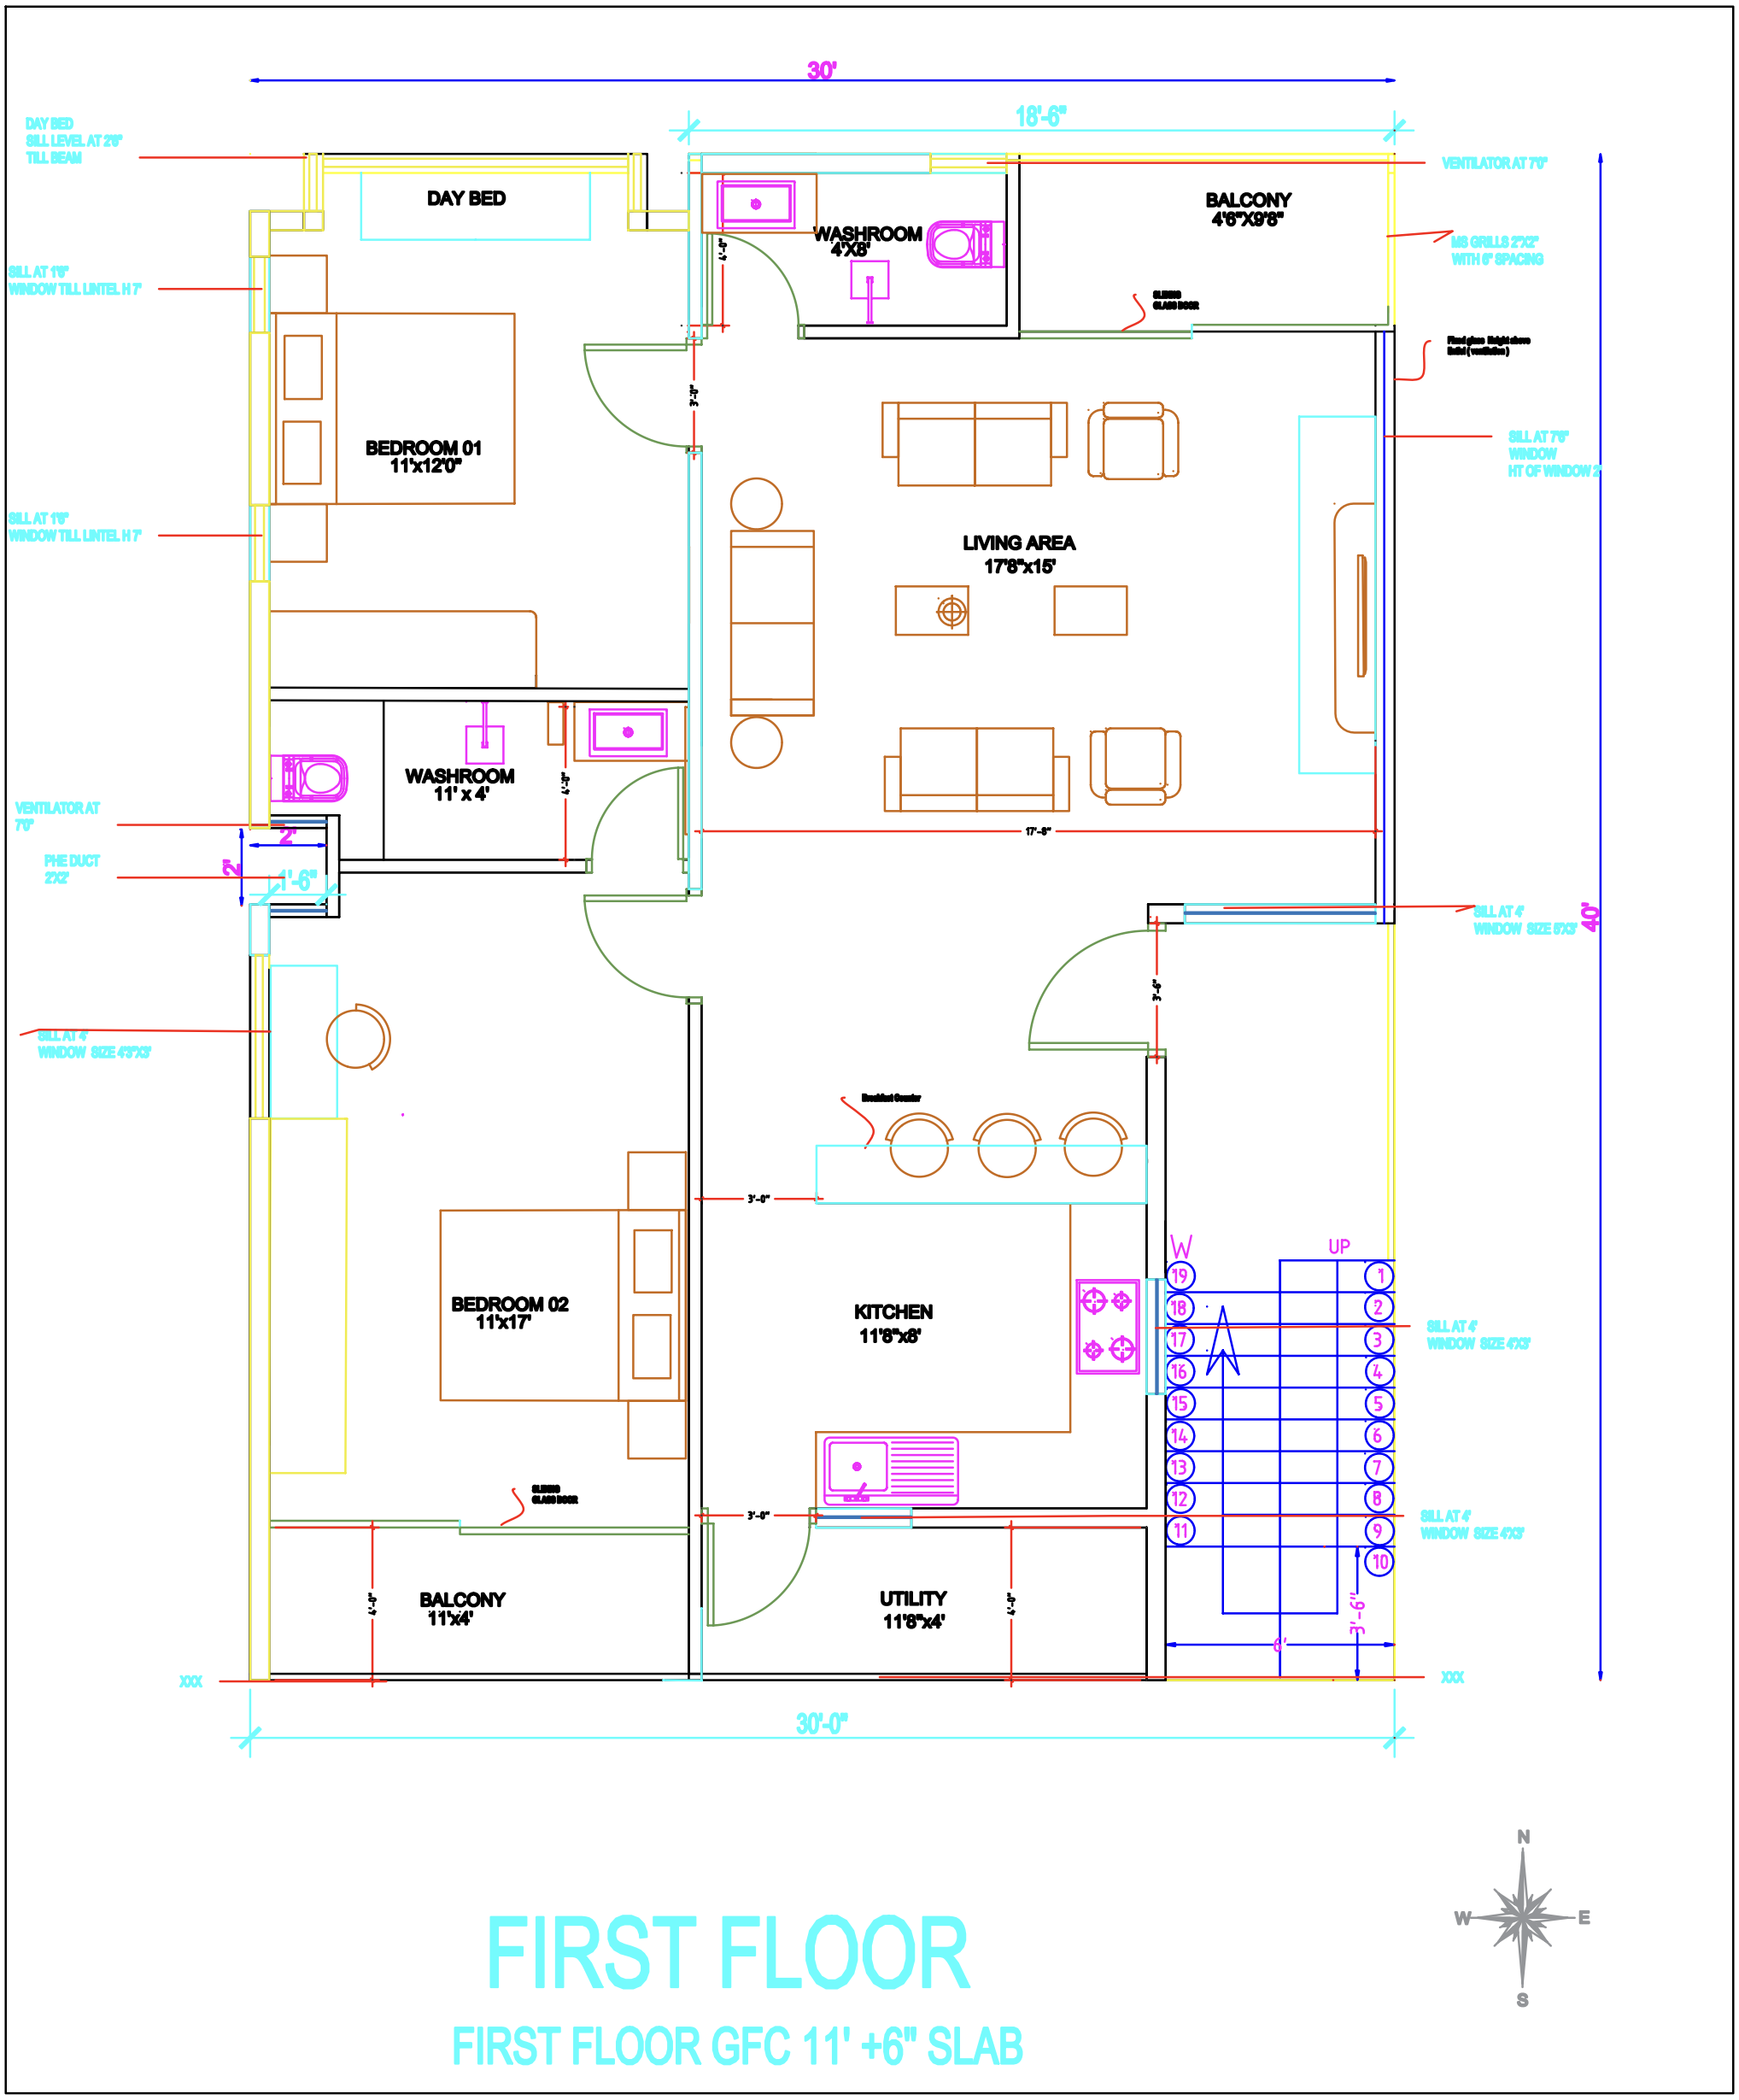door: (1029, 923, 1162, 1055), (581, 335, 705, 457), (698, 1512, 818, 1629), (579, 888, 699, 1003), (705, 225, 809, 337), (586, 759, 691, 863)
